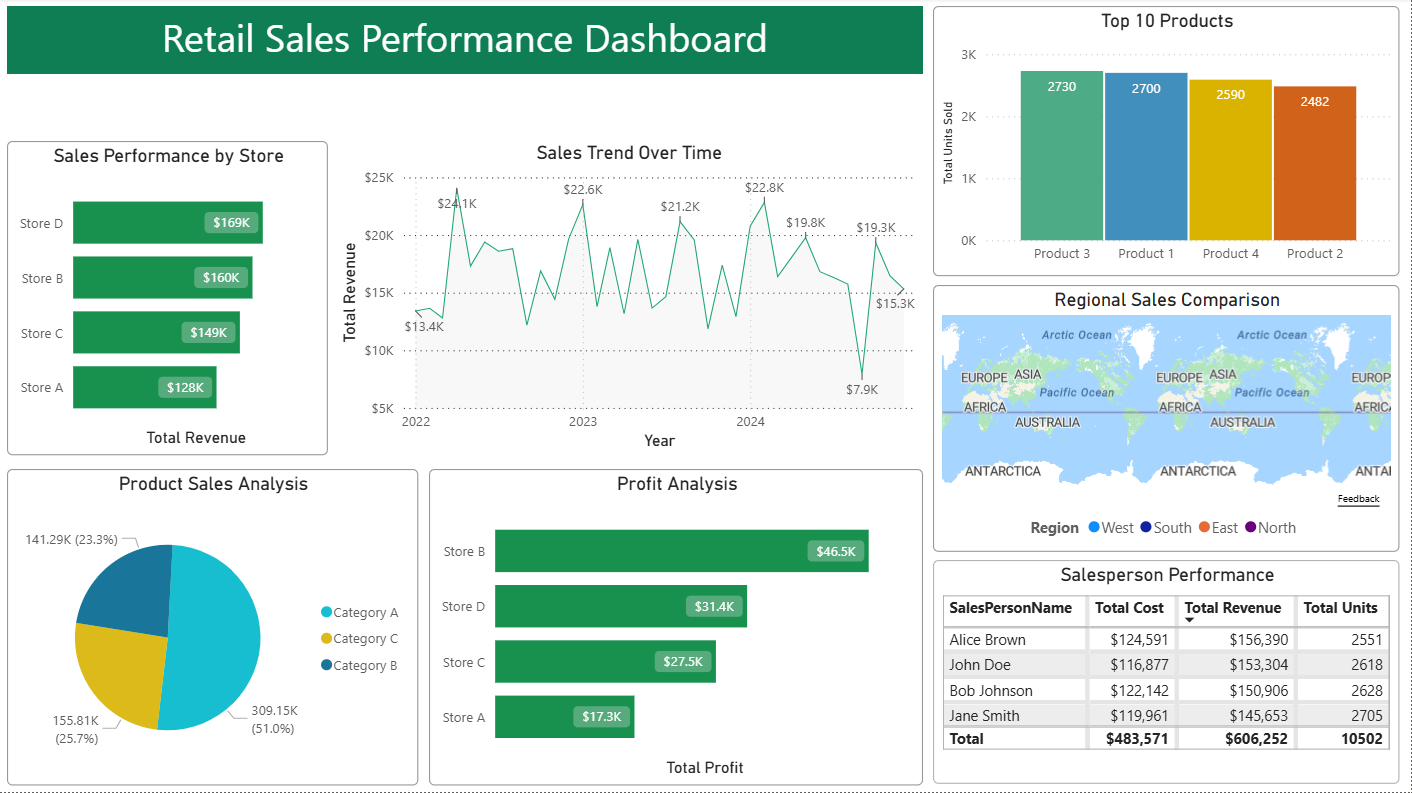

The page's visual inventory and layout, read from the dashboard file:
{"tool":"powerbi","page":{"name":"Page 1","canvas":[1280,720],"ordinal":0},"visuals":[{"type":"clusteredBarChart","title":"Sales Performance by Store","fields":{"Y":["Measures_.Total Revenue"],"Category":["vw_StorePerformance.StoreName"]},"box":[7.5,130,291.2,285],"z":0},{"type":"pieChart","title":"Product Sales Analysis","fields":{"Category":["vw_SalesEnriched.Category"],"Y":["Measures_.Total Revenue"]},"box":[7.5,426.7,372.5,286.7],"z":1000},{"type":"lineChart","title":"Sales Trend Over Time","fields":{"Y":["Measures_.Total Revenue"],"Category":["Date.Date.Variation.Date Hierarchy.Year","Date.Date.Variation.Date Hierarchy.Month"]},"box":[305,130,533.8,285],"z":2000},{"type":"tableEx","title":"Salesperson Performance","fields":{"Values":["vw_SalesEnriched.SalesPersonName","Measures_.Total Cost","Measures_.Total Revenue","Measures_.Total Units"]},"box":[846.7,510,423.3,203.3],"z":3000},{"type":"clusteredBarChart","title":"Profit Analysis","fields":{"Y":["Measures_.Total Profit"],"Category":["vw_SalesEnriched.StoreName"]},"box":[390,426.7,448.3,286.7],"z":4000},{"type":"azureMap","title":"Regional Sales Comparison","fields":{"Series":["vw_SalesEnriched.Region"],"Size":["Measures_.Total Revenue"]},"box":[847.3,260,422.7,241.8],"z":5000},{"type":"columnChart","title":"Top 10 Products","fields":{"Category":["vw_SalesEnriched.ProductName"],"Y":["Measures_.Total Units"]},"box":[847.3,7.3,422.7,245.5],"z":6000},{"type":"shape","box":[7.3,7.3,830.6,61.7],"z":6001},{"type":"shape","box":[7.3,68.9,830.6,22.7],"z":6002}]}

Visuals, with their boxes in screenshot pixels (x1, y1, x2, y2), scaled from the page's 1280x720 canvas onto the 1412x793 screenshot:
"Sales Performance by Store" clusteredBarChart: bbox=[8, 143, 330, 457]
"Product Sales Analysis" pieChart: bbox=[8, 470, 419, 786]
"Sales Trend Over Time" lineChart: bbox=[336, 143, 925, 457]
"Salesperson Performance" tableEx: bbox=[934, 562, 1401, 786]
"Profit Analysis" clusteredBarChart: bbox=[430, 470, 925, 786]
"Regional Sales Comparison" azureMap: bbox=[935, 286, 1401, 553]
"Top 10 Products" columnChart: bbox=[935, 8, 1401, 278]
shape: bbox=[8, 8, 924, 76]
shape: bbox=[8, 76, 924, 101]
